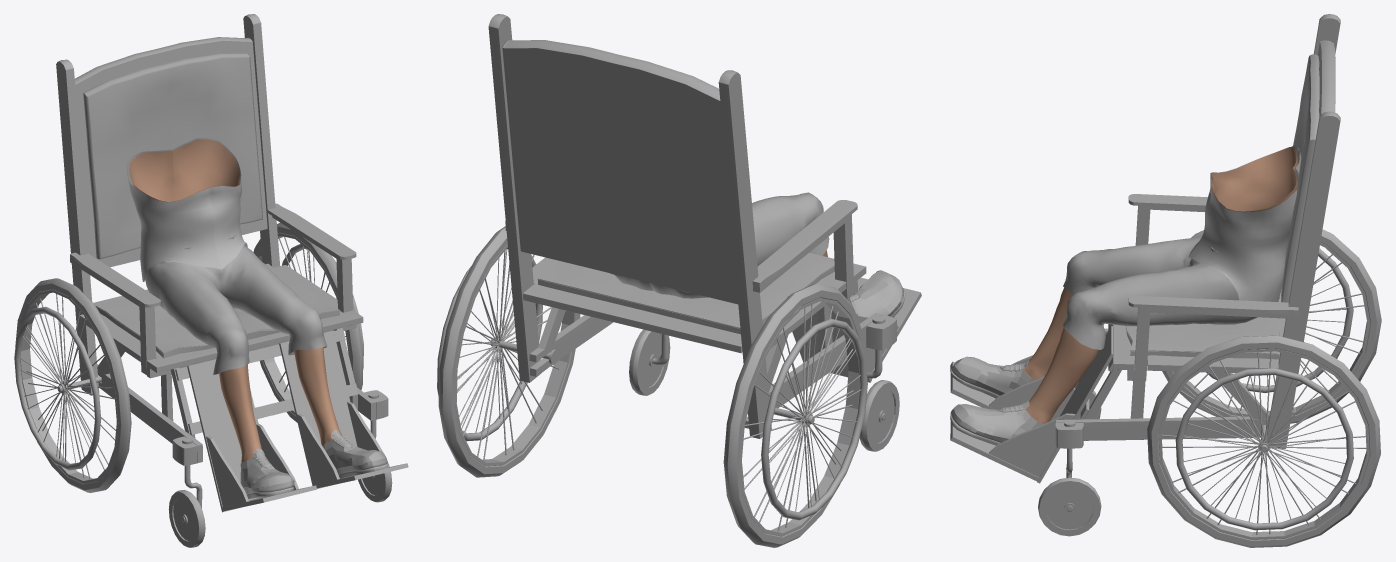
File: WheelChair_Model.fbx
The picture shows the model from 3 angles, left to right: view 1: azimuth 30°, elevation 25°; view 2: azimuth 150°, elevation 25°; view 3: azimuth 270°, elevation 25°; orthographic projection. The views are drawn at different scales.
Parts seen in each view (by area): view 1: back_pillow, pants, body, shirt1, big_wheel_right_tire, pCube18, polySurface144, pillow, polySurface17, polySurface150 (×2), polySurface72, polySurface2 (+21 smaller); view 2: pCube18, big_wheel_right_tire, big_wheel_left_tire, polySurface144, pillow, polySurface145, polySurface17, wheel (×2), pants, big_wheel_right_handle, polySurface15, polySurface78 (+8 smaller); view 3: pants, big_wheel_left_tire, body, shirt1, polySurface145, polySurface150 (×2), big_wheel_right_tire, big_wheel_left_handle, pillow, back_pillow, polySurface8, wheel (+17 smaller).
Part boxes in pixels (x1,y1,x2,y2): back_pillow: [83, 53, 262, 259]; pants: [145, 234, 326, 374]; body: [129, 139, 341, 462]; shirt1: [126, 138, 247, 281]; big_wheel_right_tire: [15, 278, 131, 492]; pCube18: [74, 37, 267, 267]; polySurface144: [56, 59, 99, 395]; pillow: [96, 263, 340, 358]; polySurface17: [79, 263, 363, 372]; polySurface150 (×2): [240, 430, 388, 499]; polySurface72: [187, 359, 261, 512]; polySurface2: [279, 330, 357, 488]; pCube18: [502, 40, 738, 304]; big_wheel_right_tire: [723, 283, 866, 547]; big_wheel_left_tire: [438, 226, 580, 477]; polySurface144: [718, 70, 771, 438]; pillow: [537, 255, 834, 334]; polySurface145: [488, 14, 541, 382]; polySurface17: [523, 252, 866, 353]; wheel (×2): [629, 329, 899, 451]; pants: [615, 192, 829, 298]; big_wheel_right_handle: [761, 318, 867, 520]; polySurface15: [752, 200, 857, 286]; polySurface78: [744, 313, 881, 428]; pants: [1063, 235, 1279, 349]; big_wheel_left_tire: [1147, 335, 1380, 547]; body: [1023, 147, 1298, 424]; shirt1: [1188, 146, 1301, 301]; polySurface145: [1267, 111, 1340, 448]; polySurface150 (×2): [950, 356, 1042, 445]; big_wheel_right_tire: [1162, 229, 1381, 423]; big_wheel_left_handle: [1175, 368, 1353, 530]; pillow: [1125, 299, 1279, 359]; back_pillow: [1281, 54, 1319, 302]; polySurface8: [1056, 416, 1268, 440]; wheel: [1038, 477, 1101, 536].
Size of the model in its own units: 81.98 by 116 by 107.
